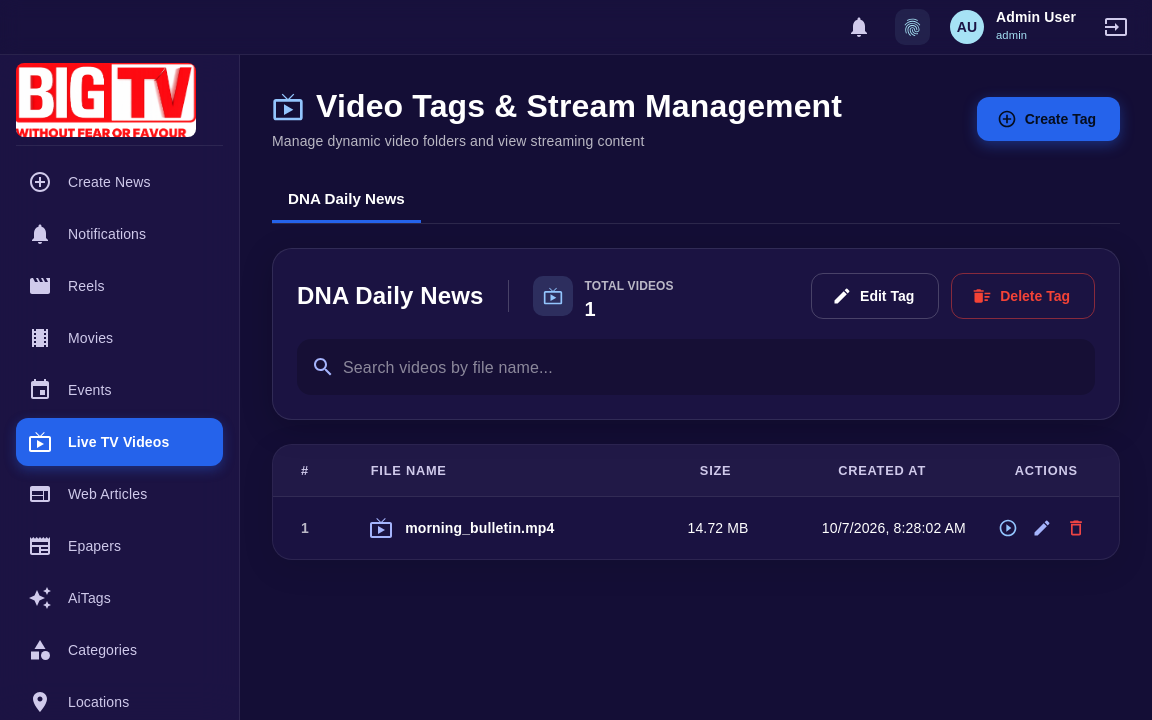
LiveTvVideos Module - Folder-Based Video Tags Integration › opens edit modal, edits tag name, and saves changes
Click the button "Edit Tag".
click(875, 296)  # box top-left (811, 272), bottom-right (939, 319)
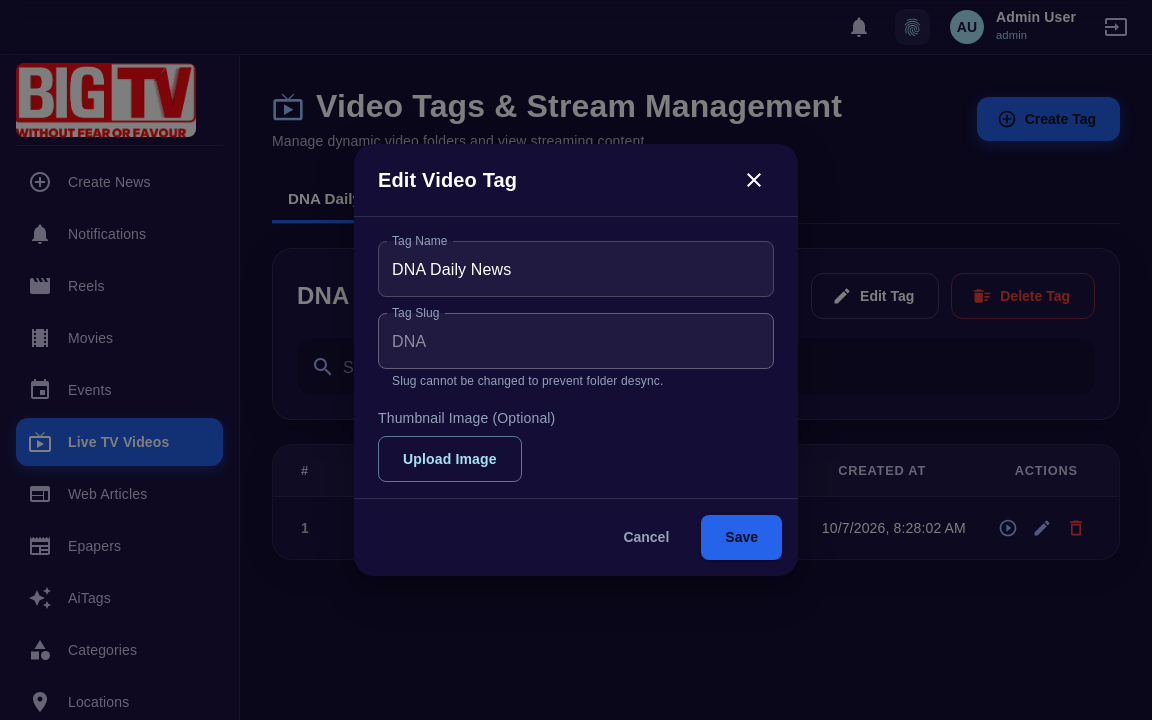
Check: the text "Edit Video Tag" is shown, box top-left (378, 164), bottom-right (517, 196)
Replace the text in the field labelled "Tag Name" with "Updated Tag Name" at (576, 269), box top-left (378, 241), bottom-right (774, 297)
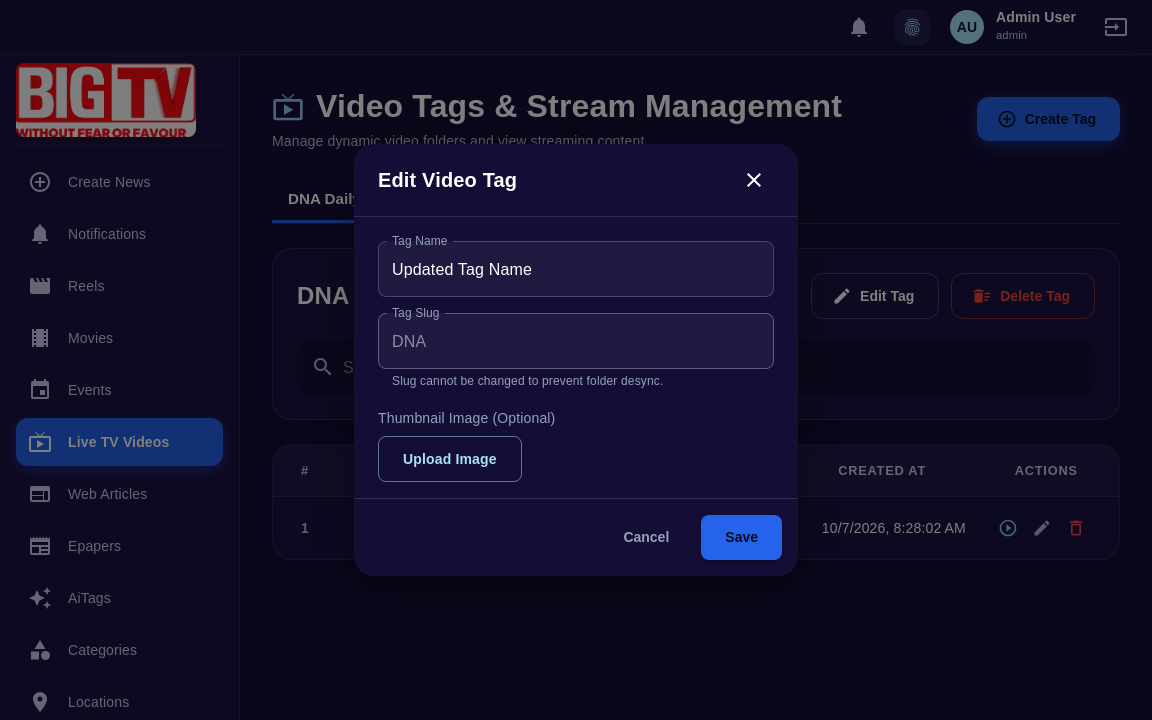
Click the button "Save".
click(742, 538)  # box top-left (701, 516), bottom-right (782, 560)
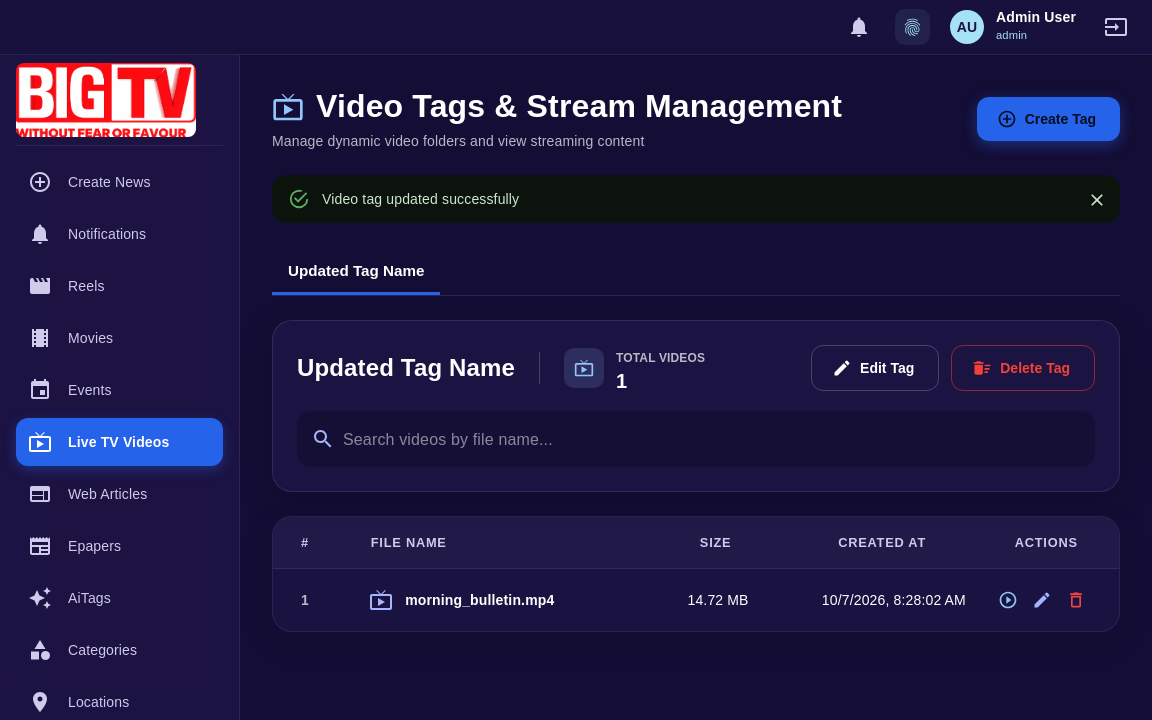
Check: the text "Video tag updated successfully" is shown, box top-left (322, 190), bottom-right (519, 206)
